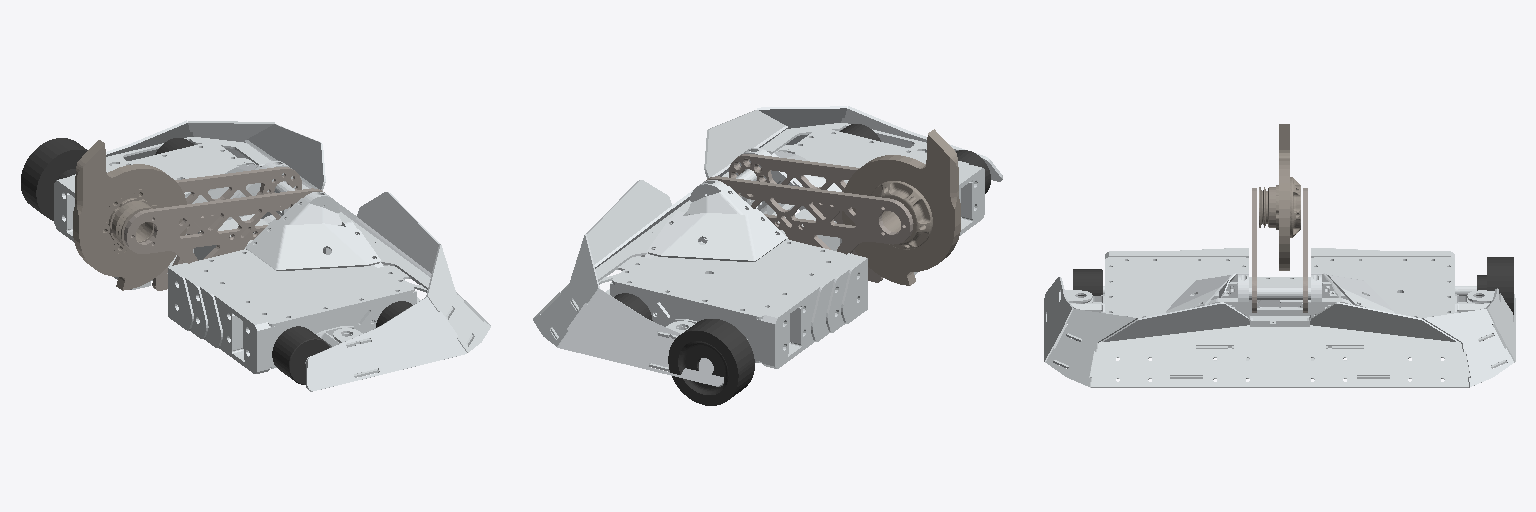
URDF robot description (nemesis_urdf_final):
<?xml version='1.0' encoding='utf-8'?>
<robot name="nemesis_urdf_final">
  <link name="base_link">
    <inertial>
      <origin xyz="0.072485840126976 0.000878128522176701 0.0530170601622731" rpy="0 0 0" />
      <mass value="71.799" />
      <inertia ixx="1.47033658329359" ixy="0.000907552946275019" ixz="-0.00108687384099682" iyy="0.23253579059547" iyz="1.25304543165653E-05" izz="1.64895740075357" />
    </inertial>
    <visual>
      <origin xyz="0 0 0" rpy="0 0 0" />
      <geometry>
        <mesh filename="package://nemesis_gazebo/models/nemesis_urdf_final/meshes/base_link.STL" />
      </geometry>
      <material name="">
        <color rgba="0.898039215686275 0.917647058823529 0.929411764705882 1" />
      </material>
    </visual>
    <collision>
      <origin xyz="0.051 0 0.1075" rpy="0 0 0" />
      <geometry>
        <box size="0.542 1.106 0.165" />
      </geometry>
    </collision>
  </link>
  <link name="fr_link">
    <inertial>
      <origin xyz="5.20417042793042E-18 0 -0.034925" rpy="0 0 0" />
      <mass value="0.530106742248451" />
      <inertia ixx="0.000577833978254282" ixy="-1.5376817735827E-20" ixz="-1.11226969365801E-20" iyy="0.000577833978254282" iyz="9.87164357981292E-21" izz="0.000725837105486886" />
    </inertial>
    <visual>
      <origin xyz="0 0 0" rpy="0 0 0" />
      <geometry>
        <mesh filename="package://nemesis_gazebo/models/nemesis_urdf_final/meshes/fr_link.STL" />
      </geometry>
      <material name="">
        <color rgba="0.298039215686275 0.298039215686275 0.298039215686275 1" />
      </material>
    </visual>
    <collision>
      <origin xyz="0 0 -0.035" rpy="0 0 0" />
      <geometry>
        <cylinder radius="0.0508" length="0.07" />
      </geometry>
    </collision>
  </link>
  <joint name="fr_joint" type="continuous">
    <origin xyz="0.116905103778529 -0.486399448768143 0.0360044999998726" rpy="1.57079632679516 0 0" />
    <parent link="base_link" />
    <child link="fr_link" />
    <axis xyz="0 0 -1" />
    <limit effort="67.65" velocity="137" />
  </joint>
  <link name="fl_link">
    <inertial>
      <origin xyz="-2.60208521396521E-18 2.77555756156289E-17 0.0349250000000002" rpy="0 0 0" />
      <mass value="0.530106742248452" />
      <inertia ixx="0.000577833978254283" ixy="-8.37160822969931E-21" ixz="3.66861590481234E-21" iyy="0.000577833978254283" iyz="8.9471865272034E-21" izz="0.000725837105486886" />
    </inertial>
    <visual>
      <origin xyz="0 0 0" rpy="0 0 0" />
      <geometry>
        <mesh filename="package://nemesis_gazebo/models/nemesis_urdf_final/meshes/fl_link.STL" />
      </geometry>
      <material name="">
        <color rgba="0.298039215686275 0.298039215686275 0.298039215686275 1" />
      </material>
    </visual>
    <collision>
      <origin xyz="0 0 0.035" rpy="0 0 0" />
      <geometry>
        <cylinder radius="0.0508" length="0.07" />
      </geometry>
    </collision>
  </link>
  <joint name="fl_joint" type="continuous">
    <origin xyz="0.116905103778678 0.48642055123174 0.0360045000001302" rpy="1.57079632679516 0 0" />
    <parent link="base_link" />
    <child link="fl_link" />
    <axis xyz="0 0 -1" />
    <limit effort="67.65" velocity="137" />
  </joint>
  <link name="rr_link">
    <inertial>
      <origin xyz="2.77555756156289E-17 0 -0.034925" rpy="0 0 0" />
      <mass value="0.530106742248451" />
      <inertia ixx="0.000577833978254282" ixy="-6.57133315564144E-34" ixz="7.81158568717963E-20" iyy="0.000577833978254282" iyz="3.46101940476848E-32" izz="0.000725837105486885" />
    </inertial>
    <visual>
      <origin xyz="0 0 0" rpy="0 0 0" />
      <geometry>
        <mesh filename="package://nemesis_gazebo/models/nemesis_urdf_final/meshes/rr_link.STL" />
      </geometry>
      <material name="">
        <color rgba="0.298039215686275 0.298039215686275 0.298039215686275 1" />
      </material>
    </visual>
    <collision>
      <origin xyz="0 0 -0.035" rpy="0 0 0" />
      <geometry>
        <cylinder radius="0.0508" length="0.07" />
      </geometry>
    </collision>
  </link>
  <joint name="rr_joint" type="continuous">
    <origin xyz="-0.124394896221245 -0.486399448768278 0.0360044999999484" rpy="1.5707963267949 0 0" />
    <parent link="base_link" />
    <child link="rr_link" />
    <axis xyz="0 0 -1" />
    <limit effort="67.65" velocity="137" />
  </joint>
  <link name="rl_link">
    <inertial>
      <origin xyz="-2.77555756156289E-17 0 0.0349250000000001" rpy="0 0 0" />
      <mass value="0.530106742248451" />
      <inertia ixx="0.000577833978254282" ixy="-9.69911067118596E-21" ixz="-4.52172020251729E-20" iyy="0.000577833978254282" iyz="8.02272947465614E-21" izz="0.000725837105486886" />
    </inertial>
    <visual>
      <origin xyz="0 0 0" rpy="0 0 0" />
      <geometry>
        <mesh filename="package://nemesis_gazebo/models/nemesis_urdf_final/meshes/rl_link.STL" />
      </geometry>
      <material name="">
        <color rgba="0.298039215686275 0.298039215686275 0.298039215686275 1" />
      </material>
    </visual>
    <collision>
      <origin xyz="0 0 0.035" rpy="0 0 0" />
      <geometry>
        <cylinder radius="0.0508" length="0.07" />
      </geometry>
    </collision>
  </link>
  <joint name="rl_joint" type="continuous">
    <origin xyz="-0.124394896221317 0.486420551231748 0.0360044999999787" rpy="1.57079632679516 0 0" />
    <parent link="base_link" />
    <child link="rl_link" />
    <axis xyz="0 0 -1" />
    <limit effort="67.65" velocity="137" />
  </joint>
  <link name="arm_link">
    <inertial>
      <origin xyz="-0.208901861078773 0.00196244868435019 0.0540199759679735" rpy="0 0 0" />
      <mass value="4.21851489990125" />
      <inertia ixx="0.0118931917978385" ixy="0.00212551422544511" ixz="-3.63944800930124E-05" iyy="0.0639697550776977" iyz="6.92503836058097E-07" izz="0.0757503834939511" />
    </inertial>
    <visual>
      <origin xyz="0 0 0" rpy="0 0 0" />
      <geometry>
        <mesh filename="package://nemesis_gazebo/models/nemesis_urdf_final/meshes/arm_link.STL" />
      </geometry>
      <material name="">
        <color rgba="0.686274509803922 0.658823529411765 0.63921568627451 1" />
      </material>
    </visual>
    <collision>
      <origin xyz="-0.1935 -0.0355 0.054" rpy="0 0 0" />
      <geometry>
        <box size="0.479 0.247 0.134" />
      </geometry>
    </collision>
  </link>
  <joint name="arm_joint" type="revolute">
    <origin xyz="0.121667603779322 0.0539855512317503 0.144462499999938" rpy="1.5707963267949 0 0" />
    <parent link="base_link" />
    <child link="arm_link" />
    <axis xyz="0 0 -1" />
    <limit lower="0" upper="2.95" effort="308.3" velocity="37.9" />
  </joint>
  <link name="spin_link">
    <inertial>
      <origin xyz="-0.00011885 8.948E-05 -0.018527" rpy="0 0 0" />
      <mass value="10.135" />
      <inertia ixx="0.057235" ixy="0.01524" ixz="2.1756E-09" iyy="0.048472" iyz="6.7124E-09" izz="0.10266" />
    </inertial>
    <visual>
      <origin xyz="0 0 0" rpy="0 0 0" />
      <geometry>
        <mesh filename="package://nemesis_gazebo/models/nemesis_urdf_final/meshes/spin_link.STL" />
      </geometry>
      <material name="">
        <color rgba="0.64706 0.61961 0.58824 1" />
      </material>
    </visual>
    <collision>
      <origin xyz="0 0 -0.009" rpy="0 0 0" />
      <geometry>
        <cylinder radius="0.18" length="0.03" />
      </geometry>
    </collision>
  </link>
  <joint name="spin_joint" type="continuous">
    <origin xyz="-0.387281190444465 0.0423544999999996 0.0630237499999999" rpy="0 0 0" />
    <parent link="arm_link" />
    <child link="spin_link" />
    <axis xyz="0 0 -1" />
    <limit effort="19.6" velocity="387" />
  </joint>
  <!-- ═══════════════════════════════════════════════════════════════════
       Gazebo plugins
       ═══════════════════════════════════════════════════════════════════ -->
  <gazebo>
    <!-- Pose publisher (ground-truth /model/nemesis/pose) -->
    <plugin filename="gz-sim-pose-publisher-system" name="gz::sim::systems::PosePublisher">
      <publish_link_pose>false</publish_link_pose>
      <publish_visual_pose>false</publish_visual_pose>
      <publish_collision_pose>false</publish_collision_pose>
      <publish_sensor_pose>false</publish_sensor_pose>
      <publish_model_pose>true</publish_model_pose>
      <publish_nested_model_pose>true</publish_nested_model_pose>
      <use_pose_vector_msg>false</use_pose_vector_msg>
      <static_publisher>false</static_publisher>
      <update_frequency>200</update_frequency>
    </plugin>
    <!-- Wheel controllers (left = fl + rl via mimic, right = fr + rr via mimic) -->
    <plugin filename="gz-sim-joint-controller-system" name="gz::sim::systems::JointController">
      <joint_name>fl_joint</joint_name>
      <topic>/nemesis/left_wheels/cmd_vel</topic>
    </plugin>
    <plugin filename="gz-sim-joint-controller-system" name="gz::sim::systems::JointController">
      <joint_name>rl_joint</joint_name>
      <topic>/nemesis/left_wheels/cmd_vel</topic>
    </plugin>
    <plugin filename="gz-sim-joint-controller-system" name="gz::sim::systems::JointController">
      <joint_name>fr_joint</joint_name>
      <topic>/nemesis/right_wheels/cmd_vel</topic>
    </plugin>
    <plugin filename="gz-sim-joint-controller-system" name="gz::sim::systems::JointController">
      <joint_name>rr_joint</joint_name>
      <topic>/nemesis/right_wheels/cmd_vel</topic>
    </plugin>
    <!-- Arm -->
    <plugin filename="gz-sim-joint-controller-system" name="gz::sim::systems::JointController">
      <joint_name>arm_joint</joint_name>
      <topic>/nemesis/arm_motor/cmd_vel</topic>
    </plugin>
    <!-- Weapon spinner -->
    <plugin filename="gz-sim-joint-controller-system" name="gz::sim::systems::JointController">
      <joint_name>spin_joint</joint_name>
      <topic>/nemesis/weapon_motor/cmd_vel</topic>
    </plugin>
  </gazebo>
  <!-- IMU sensor on base_link -->
  <gazebo reference="base_link">
    <sensor name="imu" type="imu">
      <always_on>true</always_on>
      <update_rate>200</update_rate>
      <imu>
        <angular_velocity>
          <x>
            <noise type="none" />
          </x>
          <y>
            <noise type="none" />
          </y>
          <z>
            <noise type="none" />
          </z>
        </angular_velocity>
        <linear_acceleration>
          <x>
            <noise type="none" />
          </x>
          <y>
            <noise type="none" />
          </y>
          <z>
            <noise type="none" />
          </z>
        </linear_acceleration>
      </imu>
    </sensor>
  </gazebo>
  <gazebo reference="base_link">
    <mu1>0.3</mu1>
    <mu2>0.3</mu2>
  </gazebo>
  <gazebo reference="fr_link">
    <mu1>1</mu1>
    <mu2>1</mu2>
  </gazebo>
  <gazebo reference="fl_link">
    <mu1>1</mu1>
    <mu2>1</mu2>
  </gazebo>
  <gazebo reference="rr_link">
    <mu1>1</mu1>
    <mu2>1</mu2>
  </gazebo>
  <gazebo reference="rl_link">
    <mu1>1</mu1>
    <mu2>1</mu2>
  </gazebo>
  <gazebo reference="arm_link">
    <mu1>0.3</mu1>
    <mu2>0.3</mu2>
  </gazebo>
  <gazebo reference="spin_link">
    <!-- A spinning disc that grips what it touches launches the robot. A saw cuts and slips. -->
    <mu1>0.05</mu1>
    <mu2>0.05</mu2>
  </gazebo>
</robot>

--- Facts derived from the render (not from the file) ---
The picture shows the robot from 3 angles, left to right: view 1: azimuth 30°, elevation 25°; view 2: azimuth 150°, elevation 25°; view 3: azimuth 270°, elevation 25°; orthographic projection.
Model nemesis_urdf_final with 7 links and 6 joints (1 revolute, 5 continuous), rooted at base_link, posed every joint at zero.
Visible links, largest first — view 1: base_link, spin_link, arm_link, rl_link, rr_link; view 2: base_link, spin_link, arm_link, rl_link; view 3: base_link, spin_link, arm_link, rl_link, rr_link.
Link boxes in pixels (bbox=[...]): base_link: bbox=[54, 120, 490, 391]; spin_link: bbox=[73, 140, 187, 290]; arm_link: bbox=[124, 167, 324, 290]; rl_link: bbox=[21, 138, 87, 220]; rr_link: bbox=[272, 326, 329, 384]; base_link: bbox=[533, 106, 1002, 386]; spin_link: bbox=[842, 129, 960, 285]; arm_link: bbox=[706, 154, 913, 282]; rl_link: bbox=[668, 319, 754, 405]; base_link: bbox=[1044, 248, 1515, 387]; spin_link: bbox=[1259, 124, 1300, 270]; arm_link: bbox=[1252, 188, 1307, 312]; rl_link: bbox=[1477, 257, 1513, 324]; rr_link: bbox=[1073, 269, 1102, 295].
Bounding box of the posed robot: 0.7081 × 1.11 × 0.4177 m (x, y, z).
Meshes: 7 distinct files referenced, 7 mesh visuals loaded (7 binary STL).
